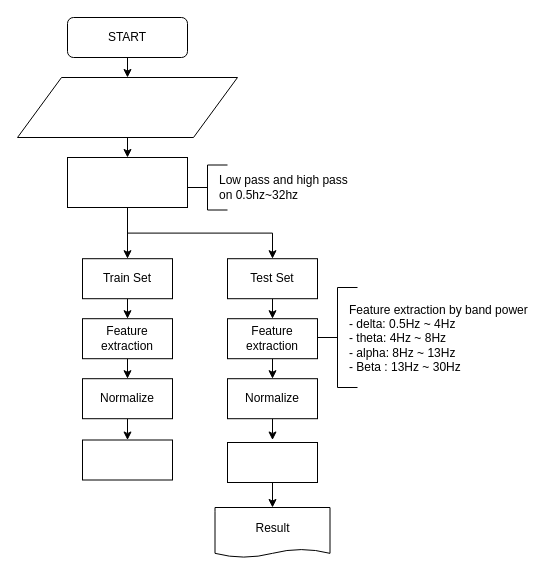
This 555x575 diagram has some shape labels left out. Each missing label, with the box of its shape:
Load 5min-EC EEG data channel : Fp1, Fp2, F7, F8: (16, 76, 238, 138)
Model eveluatating: (226, 442, 318, 482)
Model training: (82, 439, 172, 480)
Noise Reduction: (66, 156, 188, 208)
